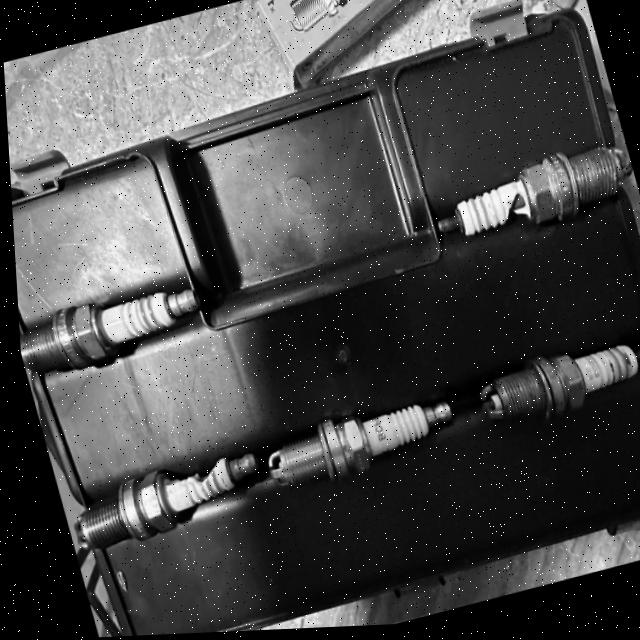damaged_spark-plug: (51, 423, 270, 564), (407, 133, 640, 260)
spark-plug: (246, 388, 459, 507), (458, 311, 640, 446), (13, 263, 209, 377)
